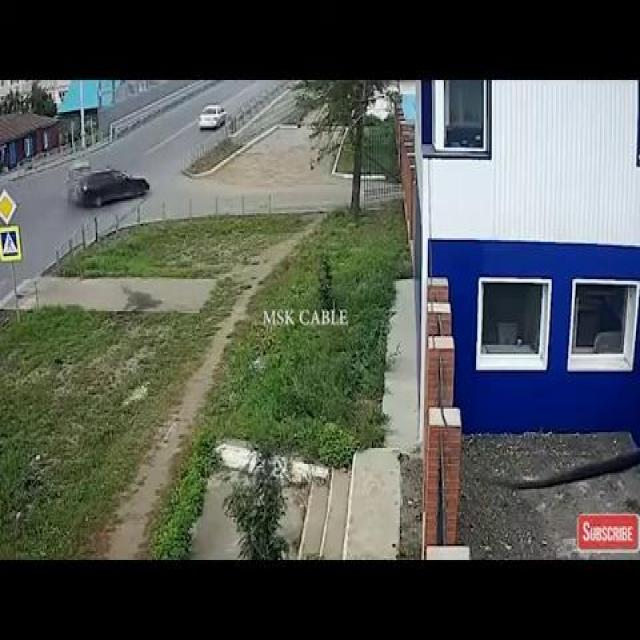accident: (59, 154, 141, 218)
